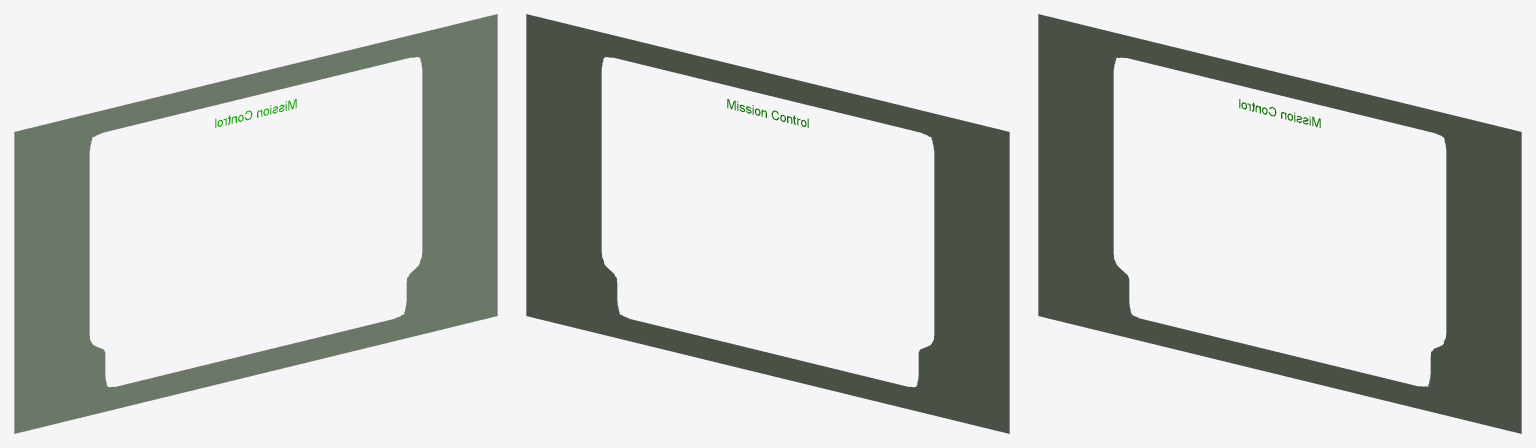
3 renders of one model, left to right at view 1: azimuth 30°, elevation 25°; view 2: azimuth 150°, elevation 25°; view 3: azimuth 330°, elevation 25°, orthographic.
Parts seen in each view (by area): view 1: UI1; view 2: UI1; view 3: UI1.
Boxes of the visible parts, left/top/right/bottom form: UI1: left=14, top=14, right=497, bottom=433; UI1: left=526, top=14, right=1009, bottom=433; UI1: left=1038, top=14, right=1521, bottom=433.
Size of the model in its own units: 12.12 by 7.24 by 0.
